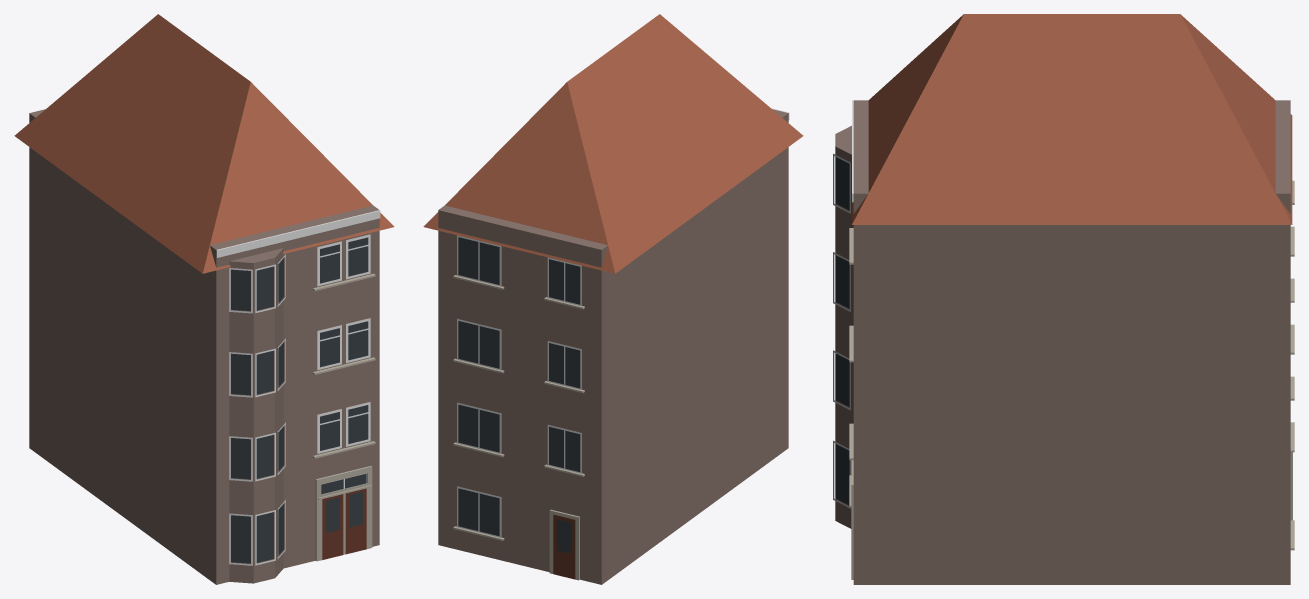
File: we-pk-bay__brown__4__hip__short__solid__f0d0.glb
The picture shows the model from 3 angles, left to right: view 1: azimuth 30°, elevation 25°; view 2: azimuth 150°, elevation 25°; view 3: azimuth 270°, elevation 25°; orthographic projection. The views are drawn at different scales.
Visible parts, largest first — view 1: we-pk-bay__brown__4__hip__short__solid__f0d0; view 2: we-pk-bay__brown__4__hip__short__solid__f0d0; view 3: we-pk-bay__brown__4__hip__short__solid__f0d0.
Boxes of the visible parts, left/top/right/bottom form: we-pk-bay__brown__4__hip__short__solid__f0d0: left=14, top=14, right=394, bottom=584; we-pk-bay__brown__4__hip__short__solid__f0d0: left=423, top=14, right=803, bottom=584; we-pk-bay__brown__4__hip__short__solid__f0d0: left=833, top=14, right=1294, bottom=584.
Bounding box in the file's own units: 7.4 × 16.54 × 13.22.
